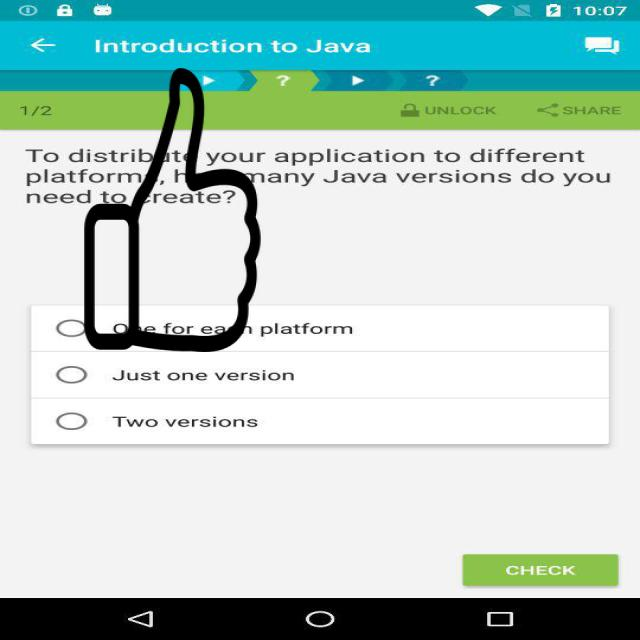privacy zuckering: (82, 68, 263, 352)
